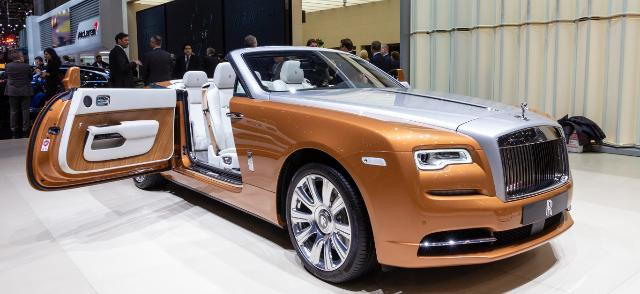rolls-royce: (26, 46, 574, 284)
